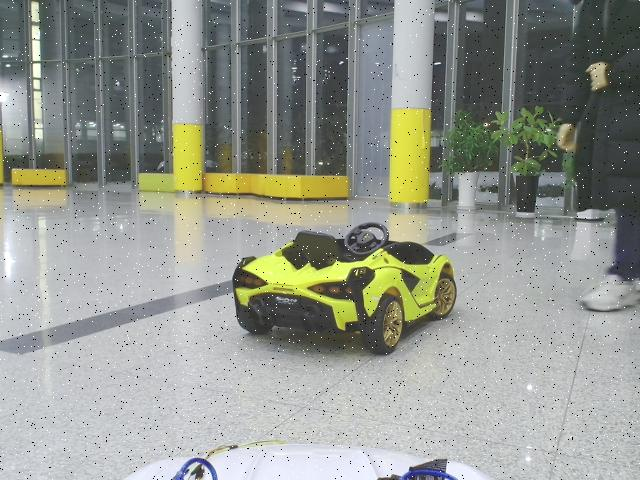car: (232, 222, 459, 356)
